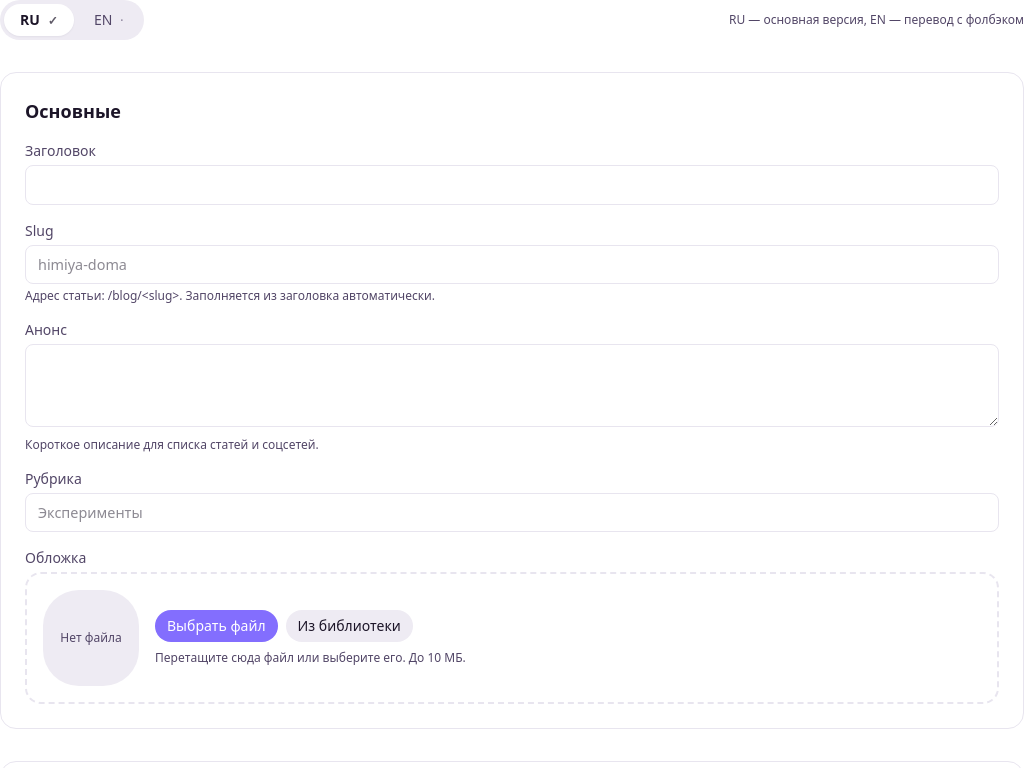
Test: BlogPostForm › автор статьи › не даёт сохранить подробности автора без имени
The image size is (1024, 768).
Type "Химия дома" into the field labelled "Заголовок".
click(512, 185); type("Химия дома")  # box [25, 165, 999, 205]
(page scrolled)
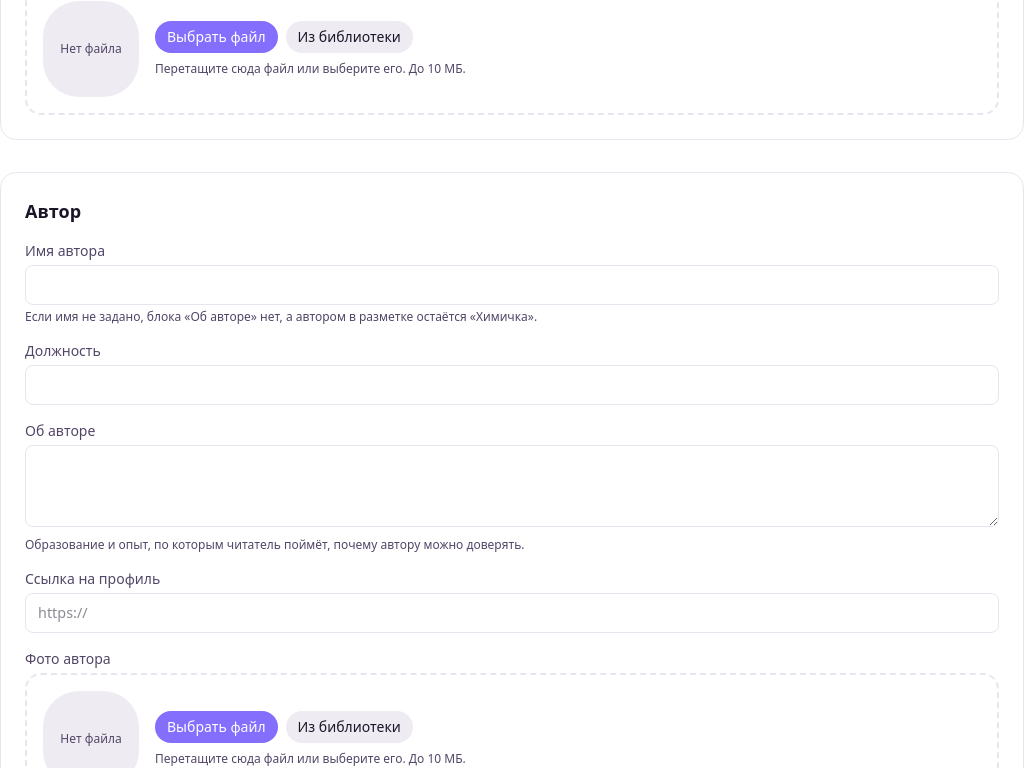
Type "Химик" into the field labelled "Должность".
click(512, 385); type("Химик")  # box [25, 365, 999, 405]
(page scrolled)
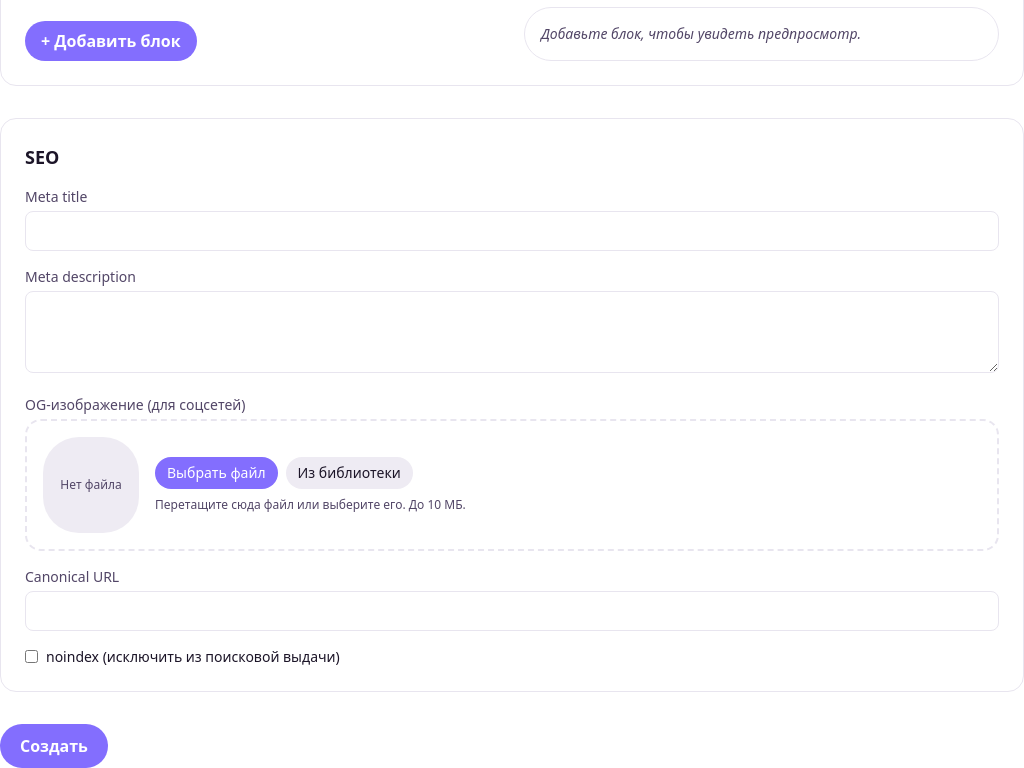
Click the button "Создать".
click(54, 746)  # box [0, 724, 108, 767]
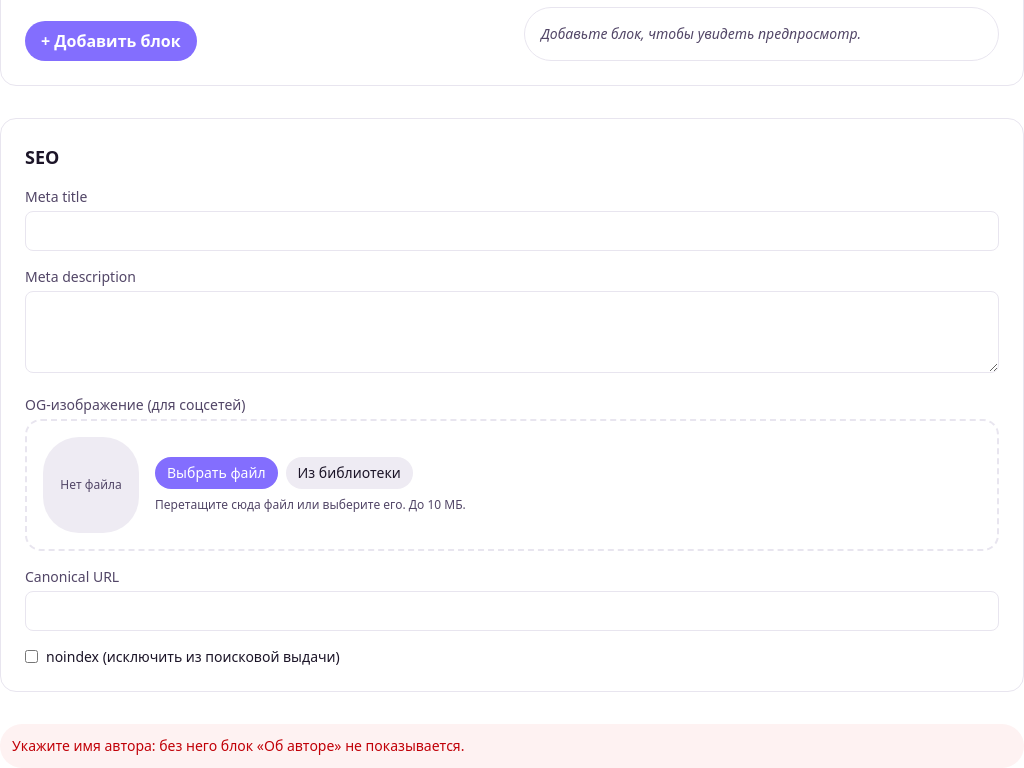
Check: the message shows "Укажите имя автора", box [12, 736, 464, 755]
